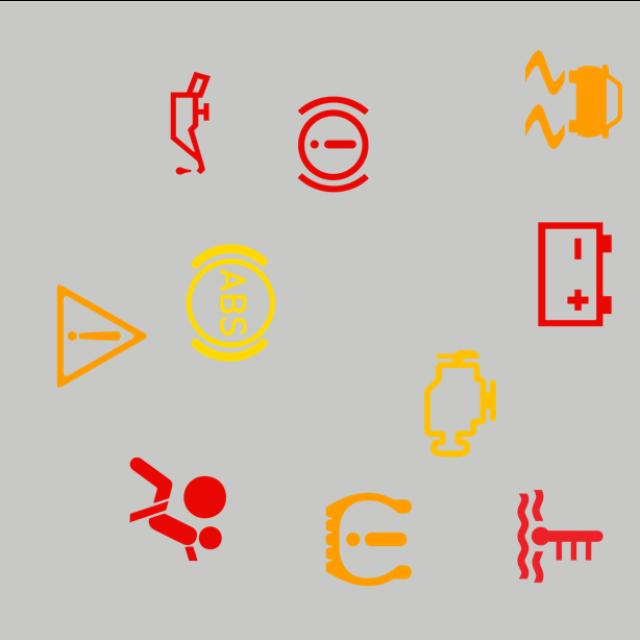Anti Lock Braking System: (167, 238, 295, 366)
Braking System Issue: (269, 80, 397, 208)
Charging System Issue: (511, 210, 639, 338)
Check Engine: (396, 339, 524, 467)
Electronic Stability Problem -ESP-: (510, 34, 638, 162)
Engine Overheating Warning Light: (496, 471, 624, 599)
Low Engine Oil Warning Light: (126, 58, 254, 186)
Low Tire Pressure Warning Light: (304, 474, 432, 602)
Master warning light: (38, 271, 166, 399)
SRS-Airbag: (114, 444, 242, 572)
